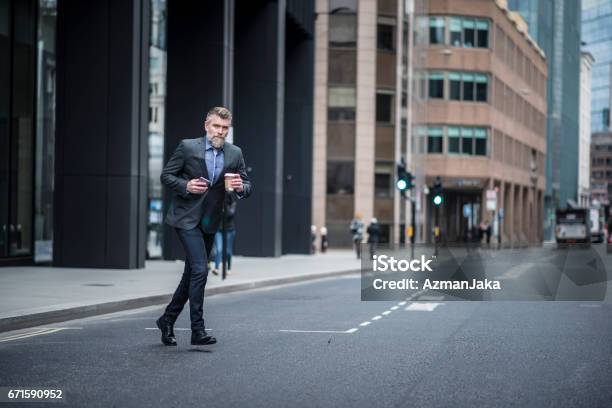person: (154, 104, 254, 351)
